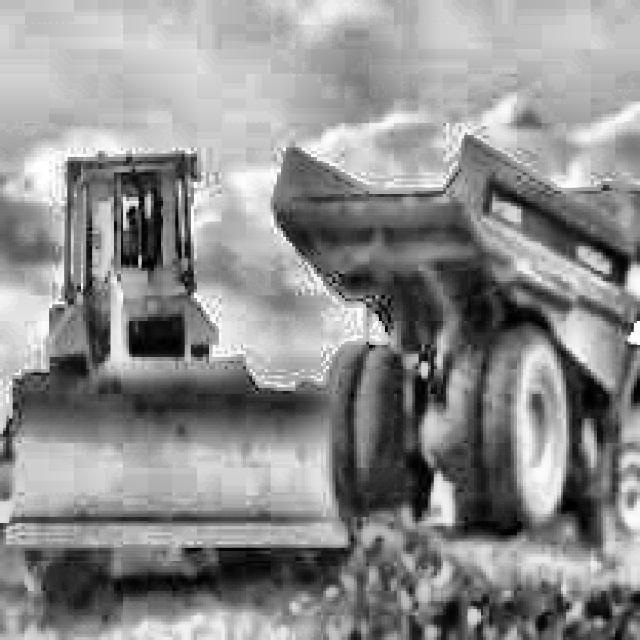dump_truck: (274, 136, 640, 566)
